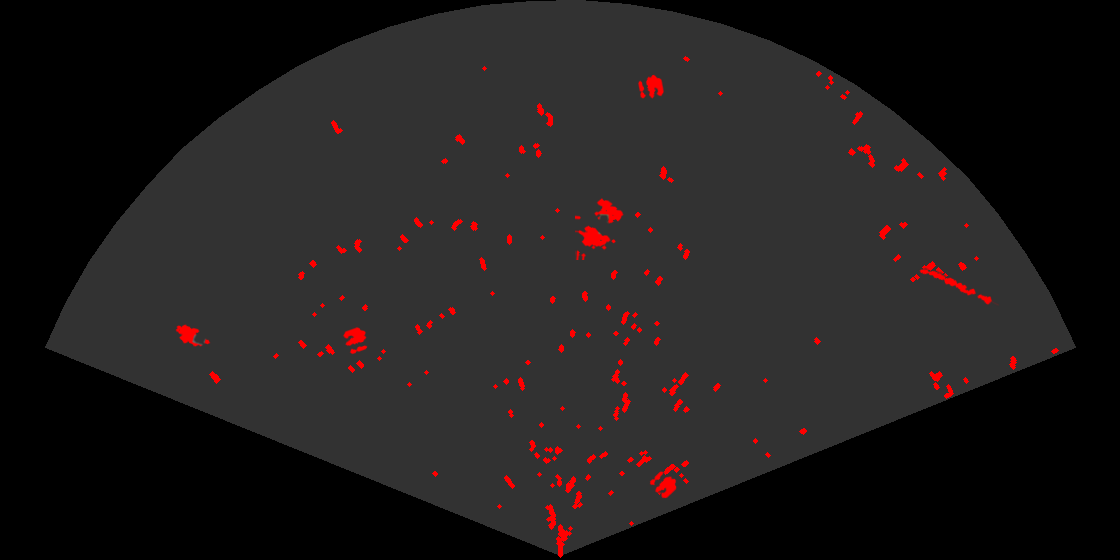AUV: (174, 323, 212, 348)
ball: (648, 470, 678, 500), (341, 325, 369, 356), (637, 73, 665, 100)
cage: (575, 196, 625, 260)
chain: (918, 267, 999, 307)
